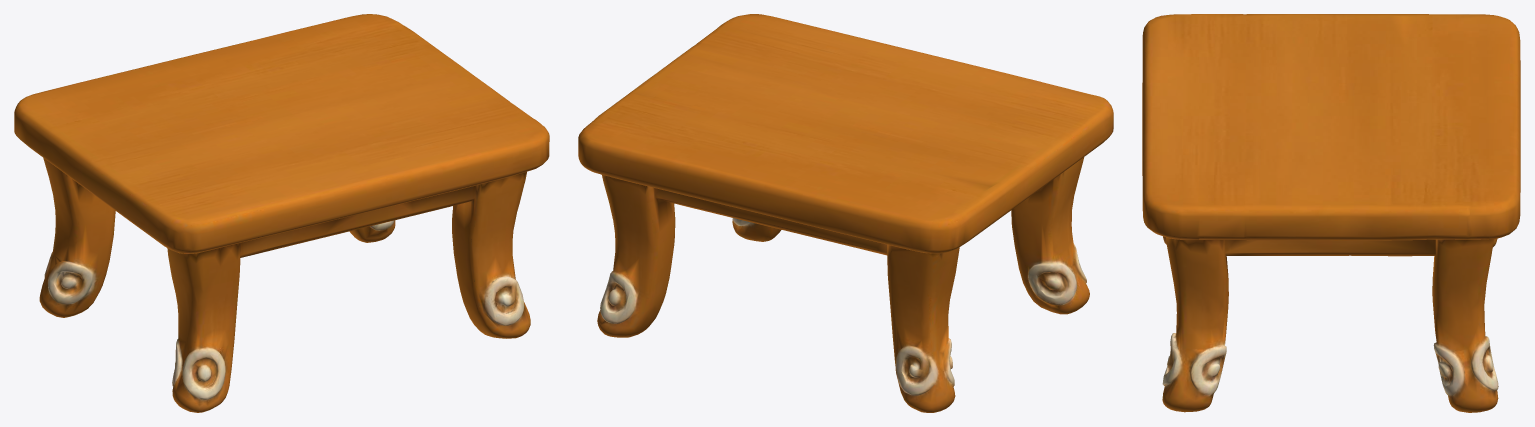
File: coffee_table_oak.glb
3 renders of one model, left to right at view 1: azimuth 30°, elevation 25°; view 2: azimuth 150°, elevation 25°; view 3: azimuth 270°, elevation 25°, orthographic. The views are drawn at different scales.
Parts seen in each view (by area): view 1: coffee_table_oak; view 2: coffee_table_oak; view 3: coffee_table_oak.
Part boxes in pixels (x1,y1,x2,y2): coffee_table_oak: (14,14,549,412); coffee_table_oak: (578,14,1113,412); coffee_table_oak: (1142,14,1520,412).
Bounding box in the file's own units: 0.896 × 0.4599 × 0.7213.
Materials: 1 (1 with a texture image).
